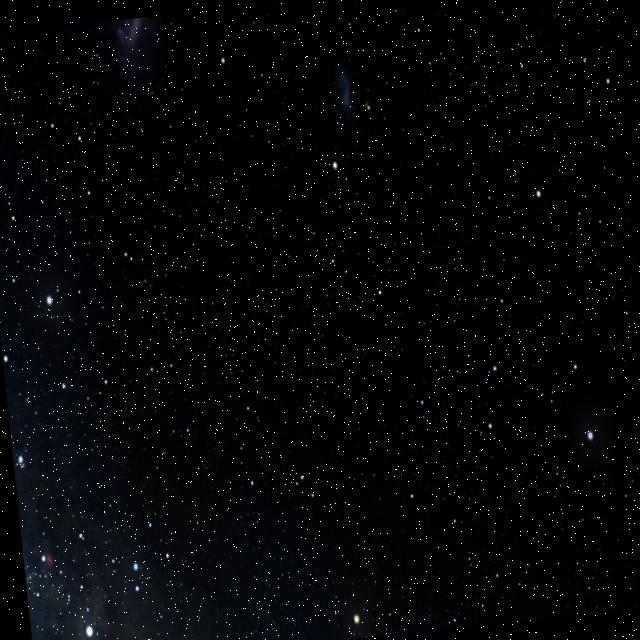Octans: (220, 246, 403, 422)
